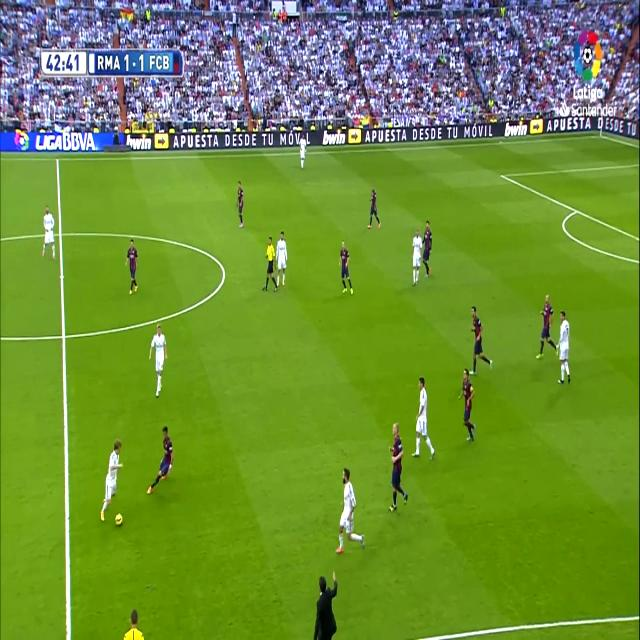halfcircle_bottom: (58, 321, 70, 349)
halfcircle_top: (55, 224, 65, 243)
midline_top_intersection: (55, 154, 61, 165)
top_arc_area_intersection: (572, 202, 580, 218)
